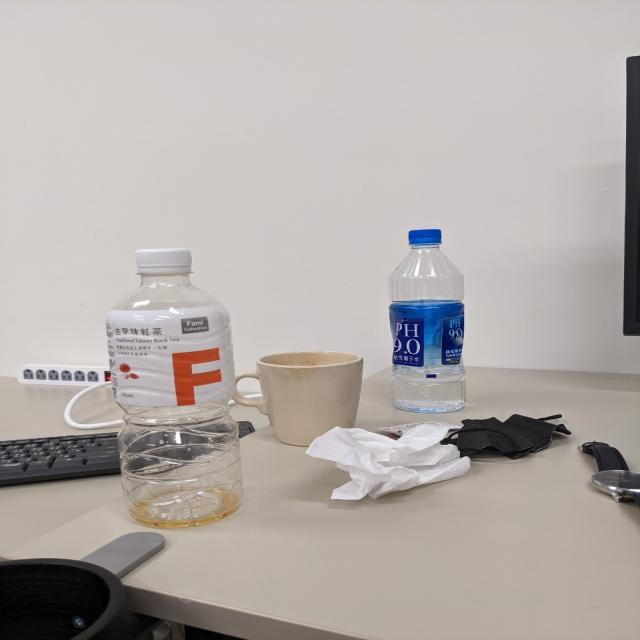bottle: (105, 248, 246, 531), (390, 229, 472, 415)
